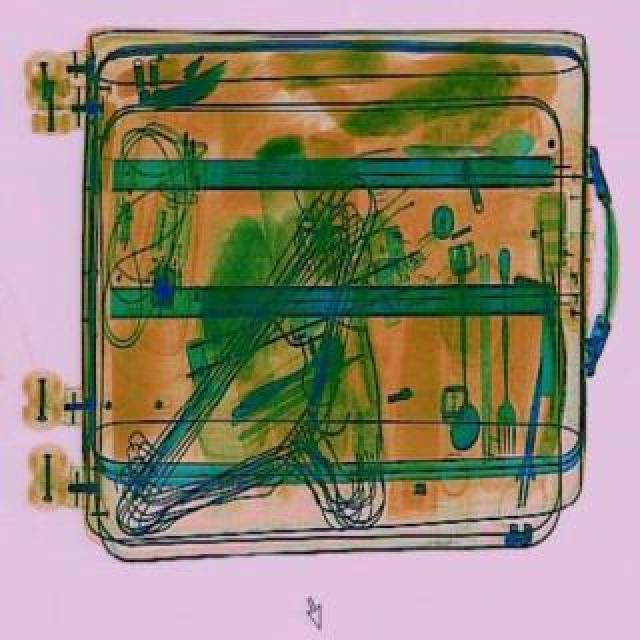knife: (514, 360, 554, 510)
